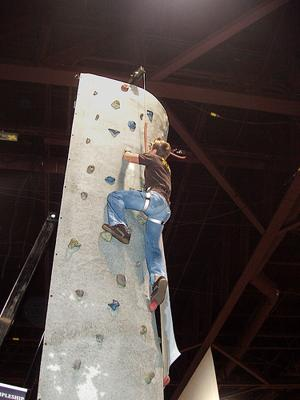person: (102, 137, 174, 312)
